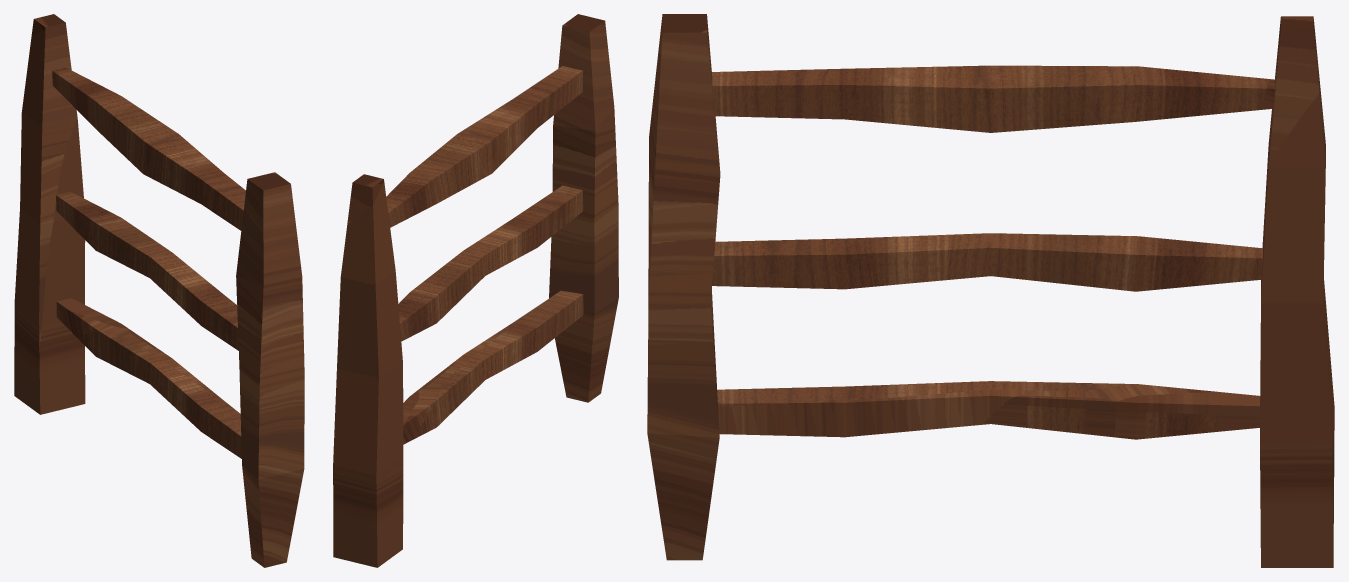
File: fence_1.fbx
The picture shows the model from 3 angles, left to right: view 1: azimuth 30°, elevation 25°; view 2: azimuth 150°, elevation 25°; view 3: azimuth 270°, elevation 25°; orthographic projection. The views are drawn at different scales.
Parts seen in each view (by area): view 1: Cube; view 2: Cube; view 3: Cube.
Part boxes in pixels (x1,y1,x2,y2): Cube: (14,14,304,567); Cube: (333,14,618,567); Cube: (647,14,1334,567).
Size of the model in its own units: 10 by 77.92 by 91.71.
1 material, 1 textured.
